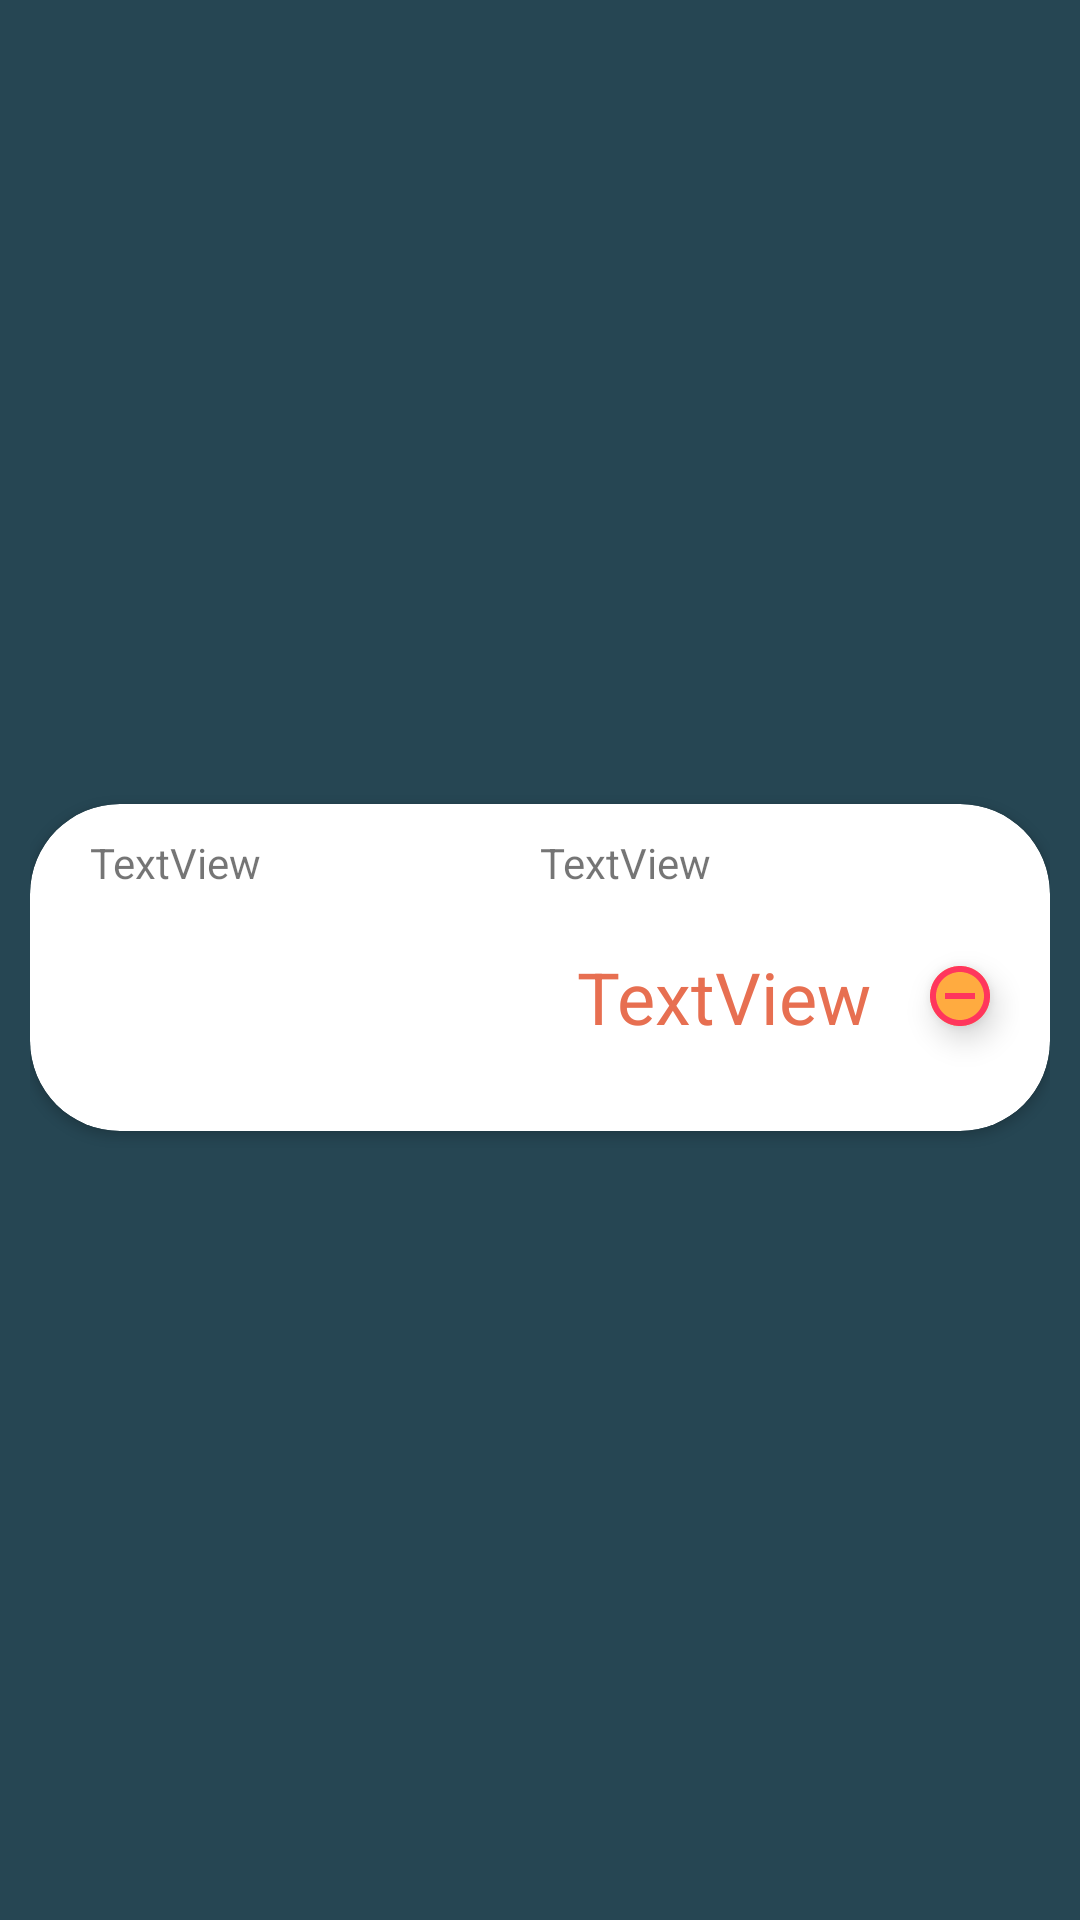

Where to tap for icons on this 1080 × 1920 app screen, as point (x, y):
remove circle: point (960, 996)
